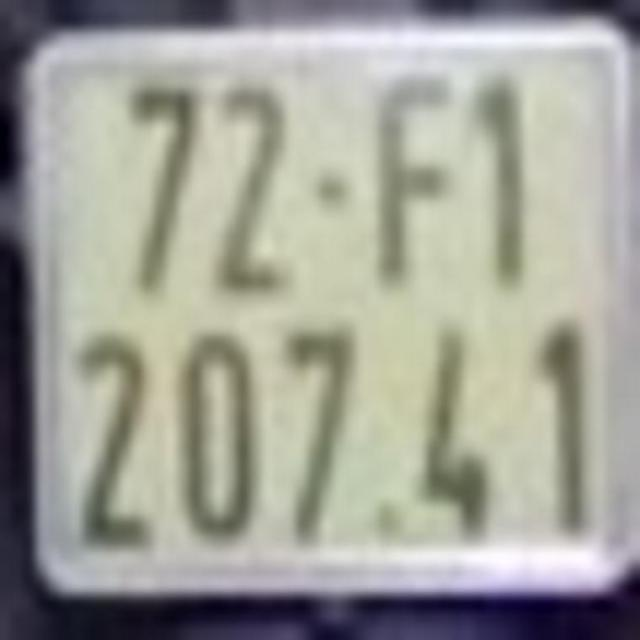0: (180, 324, 254, 548)
1: (528, 312, 612, 546), (469, 66, 538, 289)
2: (74, 322, 154, 552), (216, 79, 288, 296)
4: (418, 320, 498, 550)
7: (286, 320, 353, 548), (126, 80, 196, 292)
F: (372, 66, 456, 287)
